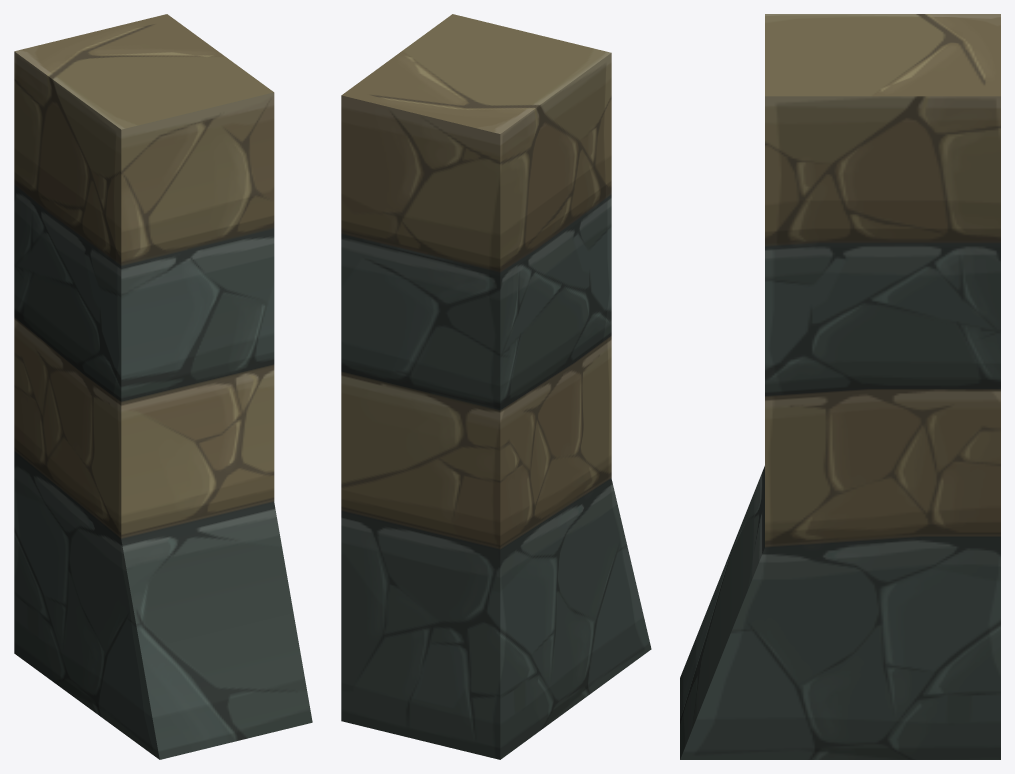
File: Dg_01_pillar_011.FBX
3 renders of one model, left to right at view 1: azimuth 30°, elevation 25°; view 2: azimuth 150°, elevation 25°; view 3: azimuth 270°, elevation 25°, orthographic. The views are drawn at different scales.
Parts seen in each view (by area): view 1: Dg_01_pillar_011; view 2: Dg_01_pillar_011; view 3: Dg_01_pillar_011.
Part boxes in pixels (x1,y1,x2,y2): Dg_01_pillar_011: (14, 14, 312, 759); Dg_01_pillar_011: (341, 14, 651, 759); Dg_01_pillar_011: (680, 14, 1000, 759).
Size of the model in its own units: 0.6001 by 2.26 by 0.989.
